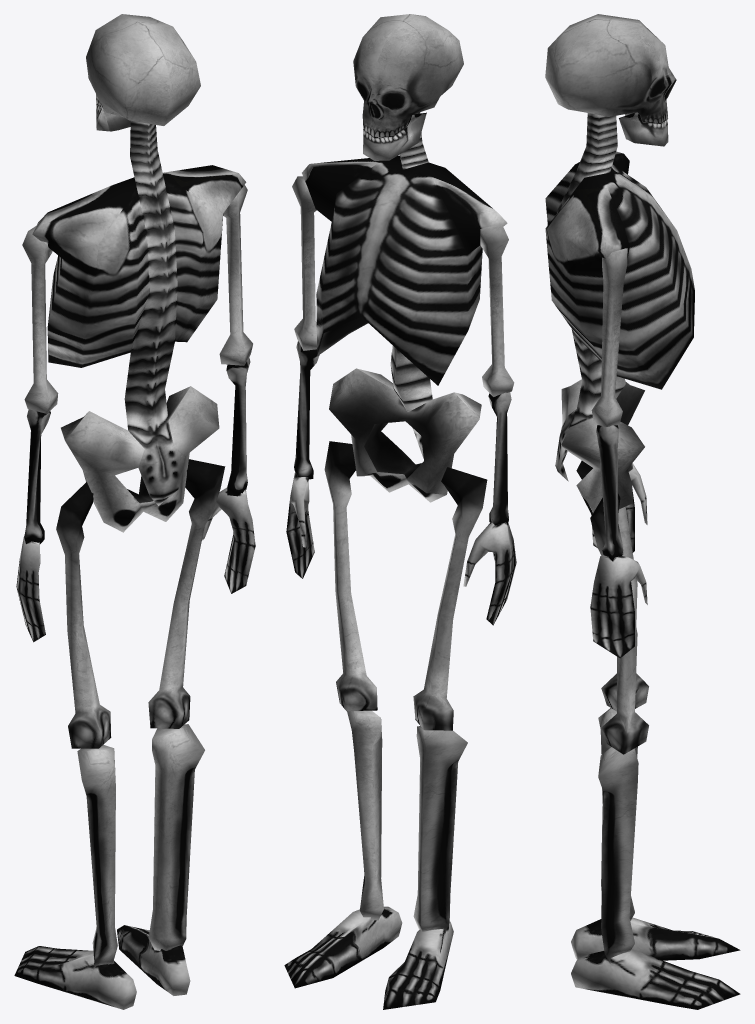
File: TheSkeletonSpelos.dae
3 renders of one model, left to right at view 1: azimuth 30°, elevation 25°; view 2: azimuth 150°, elevation 25°; view 3: azimuth 270°, elevation 25°, orthographic. The views are drawn at different scales.
Visible parts, largest first — view 1: TheSkeletonSpelos; view 2: TheSkeletonSpelos; view 3: TheSkeletonSpelos.
Part boxes in pixels (x1,y1,x2,y2): TheSkeletonSpelos: [14, 14, 255, 1009]; TheSkeletonSpelos: [284, 14, 516, 1009]; TheSkeletonSpelos: [545, 14, 740, 1009].
Bounding box in the file's own units: 0.4636 × 0.349 × 1.88.
Materials: 1 (1 with a texture image).
